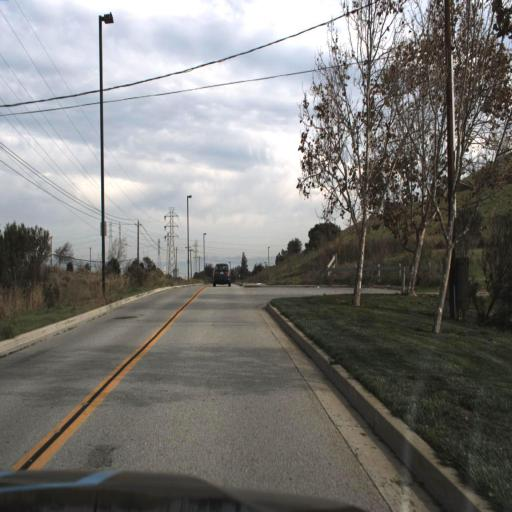car: (213, 259, 232, 292)
